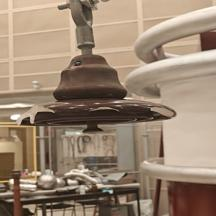insulator: (12, 52, 193, 147)
